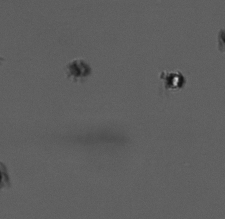Dead Cell: (66, 58, 90, 78), (1, 166, 11, 188)
Living Cell: (163, 69, 183, 90)
